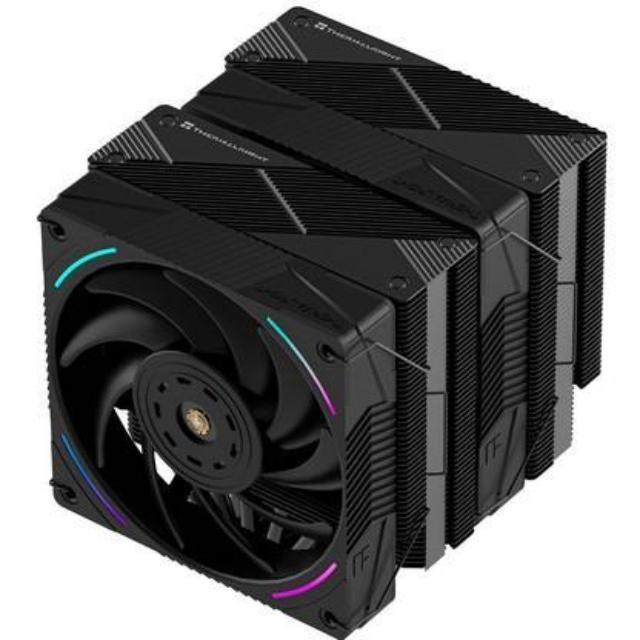CPU_Fan: (41, 7, 604, 633)
